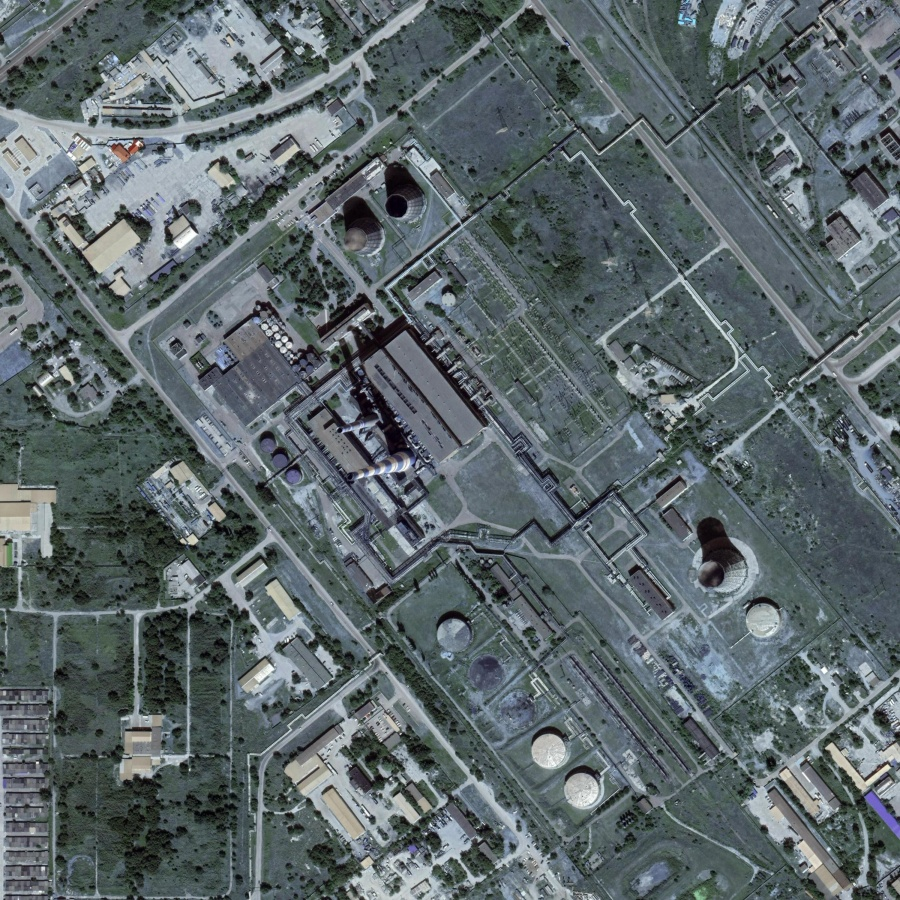PowerPlant: (314, 169, 789, 820)
